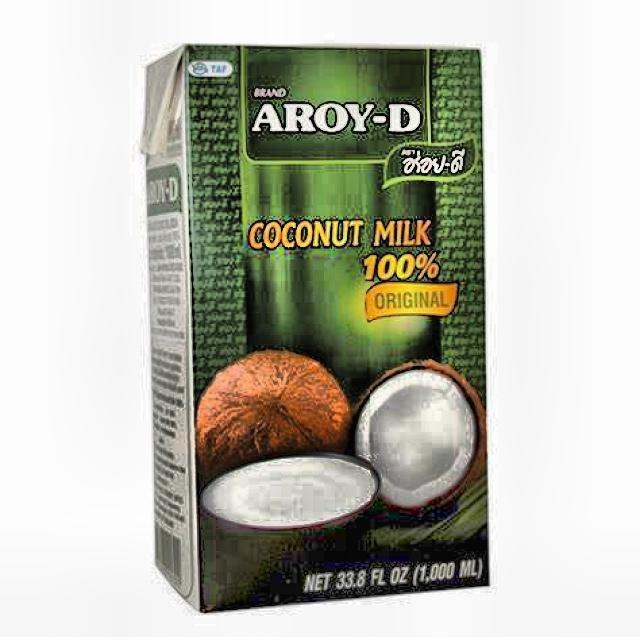cardboard: (140, 42, 489, 613)
